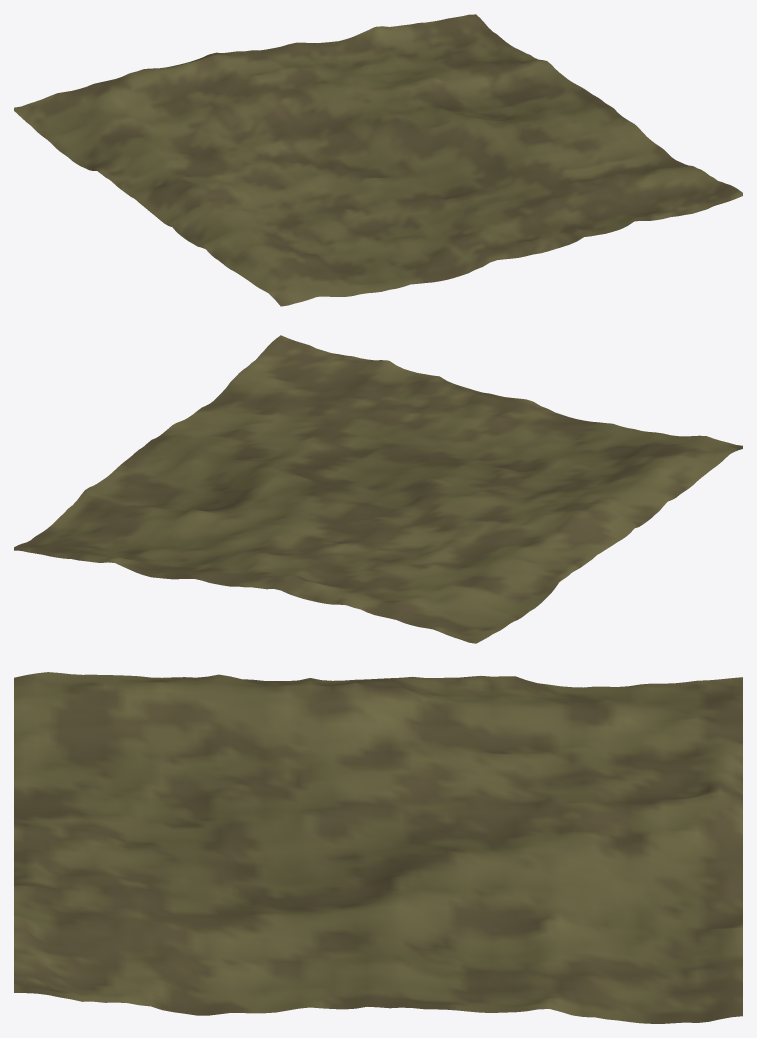
File: land_f_09_02.glb
3 renders of one model, top to bottom at view 1: azimuth 30°, elevation 25°; view 2: azimuth 150°, elevation 25°; view 3: azimuth 270°, elevation 25°, orthographic. The views are drawn at different scales.
Visible parts, largest first — view 1: land_f_09_02; view 2: land_f_09_02; view 3: land_f_09_02.
Boxes of the visible parts, bbox=[...] form: land_f_09_02: bbox=[14, 14, 742, 306]; land_f_09_02: bbox=[14, 335, 742, 643]; land_f_09_02: bbox=[14, 672, 742, 1023].
Bounding box in the file's own units: 3840 × 326 × 3840.
